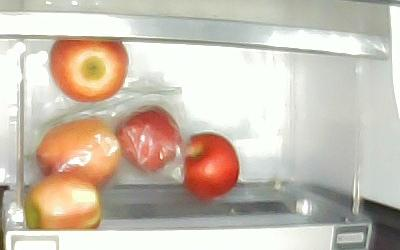apple: (49, 41, 129, 102), (23, 174, 102, 228), (182, 133, 240, 199)
apple_vinyl: (36, 117, 120, 189), (115, 104, 182, 174)
